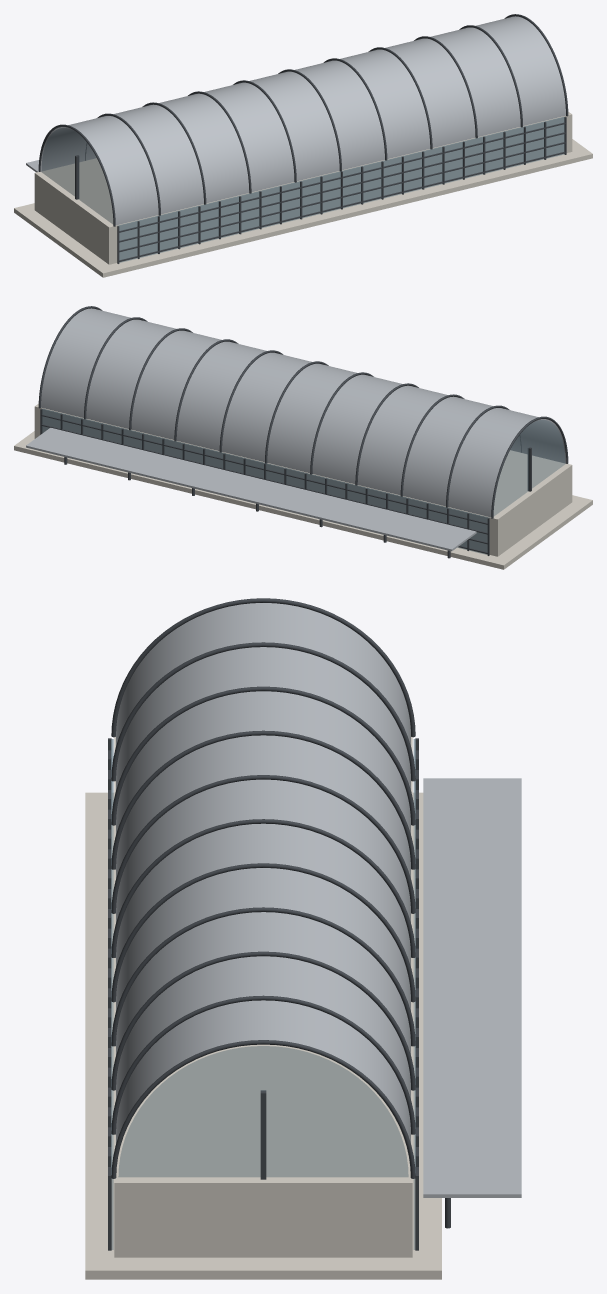
File: terminal.glb
3 views of the same model, one above another, from view 1: azimuth 30°, elevation 25°; view 2: azimuth 150°, elevation 25°; view 3: azimuth 270°, elevation 25° (orthographic). The views are drawn at different scales.
Parts seen in each view (by area): view 1: vault_roof, hall_floor, facade_glass_air, hall_podium, gable_glass_0, mullion_air_h0, mullion_air_h1, mullion_air_h2, mullion_air_h3, facade_sill_air, roof_rib_0, roof_rib_1 (+9 smaller); view 2: vault_roof, hall_floor, canopy_deck, facade_glass_land, hall_podium, gable_glass_0, mullion_land_h3, mullion_land_h2, roof_rib_0, roof_rib_1, roof_rib_10, roof_rib_4 (+7 smaller); view 3: vault_roof, hall_floor, canopy_deck, gable_glass_1, hall_podium, facade_sill_air, roof_rib_10, facade_sill_land, roof_rib_2, roof_rib_8, roof_rib_7, roof_rib_4 (+8 smaller).
Part boxes in pixels (bbox=[...]): vault_roof: bbox=[40, 16, 565, 225]; hall_floor: bbox=[34, 112, 572, 264]; facade_glass_air: bbox=[117, 116, 564, 262]; hall_podium: bbox=[14, 139, 592, 277]; gable_glass_0: bbox=[41, 128, 113, 223]; mullion_air_h0: bbox=[119, 152, 565, 261]; mullion_air_h1: bbox=[119, 142, 565, 252]; mullion_air_h2: bbox=[119, 132, 565, 242]; mullion_air_h3: bbox=[119, 122, 565, 232]; facade_sill_air: bbox=[116, 158, 563, 267]; roof_rib_0: bbox=[38, 124, 115, 226]; roof_rib_1: bbox=[85, 113, 160, 215]; vault_roof: bbox=[41, 308, 566, 517]; hall_floor: bbox=[34, 404, 572, 556]; canopy_deck: bbox=[26, 427, 476, 551]; facade_glass_land: bbox=[42, 408, 489, 554]; hall_podium: bbox=[14, 431, 592, 569]; gable_glass_0: bbox=[493, 420, 565, 515]; mullion_land_h3: bbox=[41, 414, 487, 524]; mullion_land_h2: bbox=[41, 424, 487, 534]; roof_rib_0: bbox=[491, 416, 568, 518]; roof_rib_1: bbox=[446, 405, 521, 507]; roof_rib_10: bbox=[38, 306, 102, 408]; roof_rib_4: bbox=[310, 372, 373, 474]; vault_roof: bbox=[116, 603, 410, 1143]; hall_floor: bbox=[114, 737, 412, 1257]; canopy_deck: bbox=[423, 778, 521, 1197]; gable_glass_1: bbox=[118, 1046, 408, 1177]; hall_podium: bbox=[85, 792, 441, 1279]; facade_sill_air: bbox=[94, 808, 107, 1255]; roof_rib_10: bbox=[111, 1040, 415, 1178]; facade_sill_land: bbox=[419, 809, 433, 1255]; roof_rib_2: bbox=[111, 686, 415, 825]; roof_rib_8: bbox=[111, 951, 415, 1090]; roof_rib_7: bbox=[111, 907, 415, 1046]; roof_rib_4: bbox=[111, 775, 415, 913].
Size of the model in its own units: 184 by 39.8 by 71.
